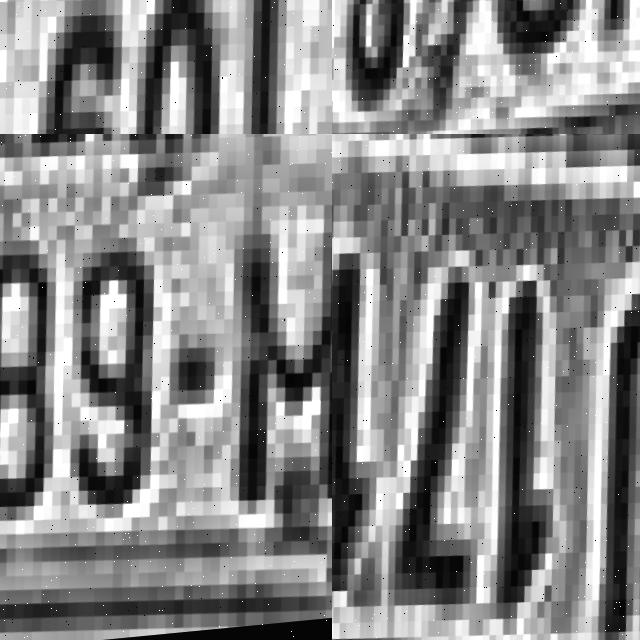license-plate: (0, 134, 332, 640), (332, 134, 640, 640), (0, 0, 332, 134), (332, 0, 640, 134)
